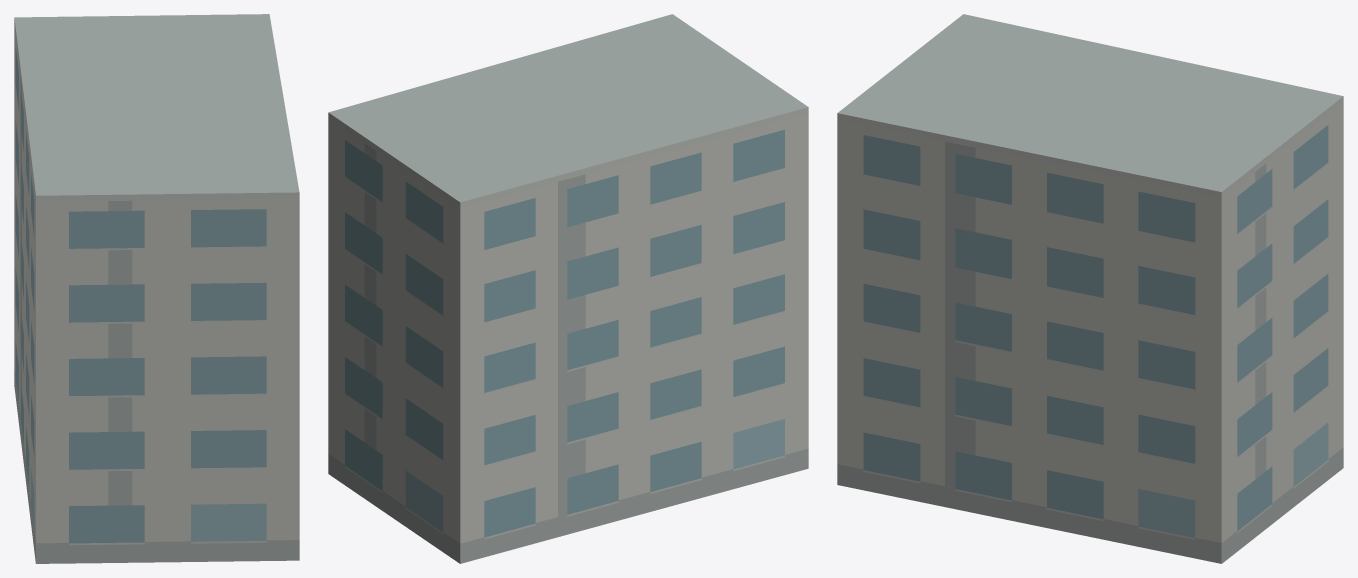
Rendered from survey-upis-32944951.glb.
The picture shows the model from 3 angles, left to right: view 1: azimuth 30°, elevation 25°; view 2: azimuth 150°, elevation 25°; view 3: azimuth 270°, elevation 25°; orthographic projection. The views are drawn at different scales.
Parts seen in each view (by area): view 1: survey-upis-32944951.tmp; view 2: survey-upis-32944951.tmp; view 3: survey-upis-32944951.tmp.
Boxes of the visible parts, <box> form: survey-upis-32944951.tmp: <box>14,14,299,563</box>; survey-upis-32944951.tmp: <box>328,14,808,563</box>; survey-upis-32944951.tmp: <box>837,14,1343,563</box>.
Bounding box in the file's own units: 14.79 × 14.39 × 17.77.
